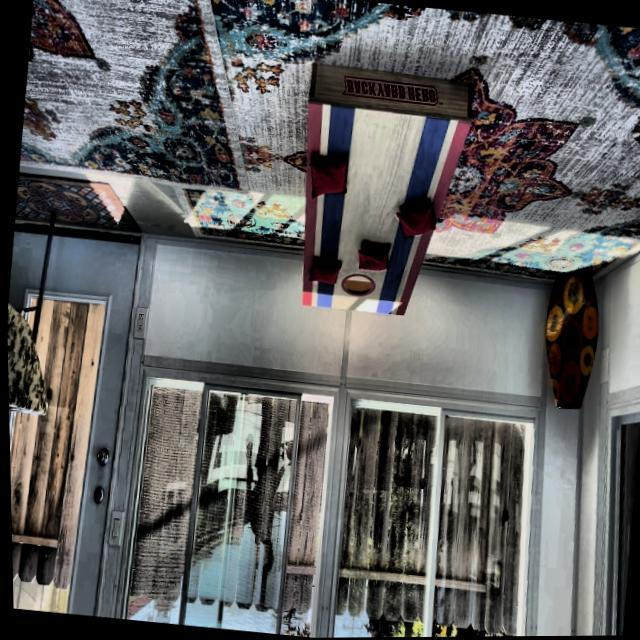board: (294, 102, 437, 316)
hole: (337, 270, 374, 300)
red-bean-bag: (302, 155, 349, 202), (391, 200, 436, 242), (354, 238, 390, 273), (306, 258, 340, 285)
